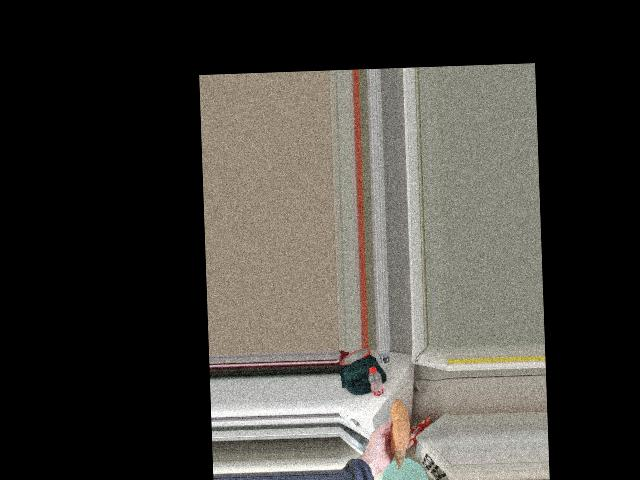sweet_potato: (384, 407, 407, 455)
